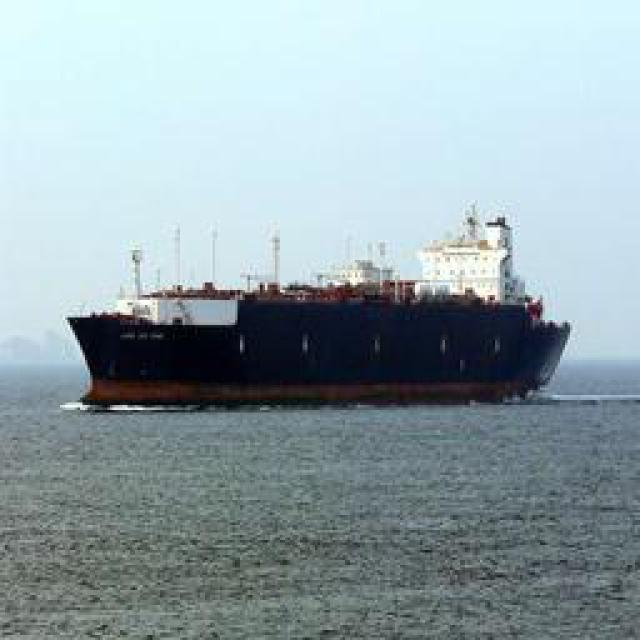Ship: (67, 291, 587, 411)
